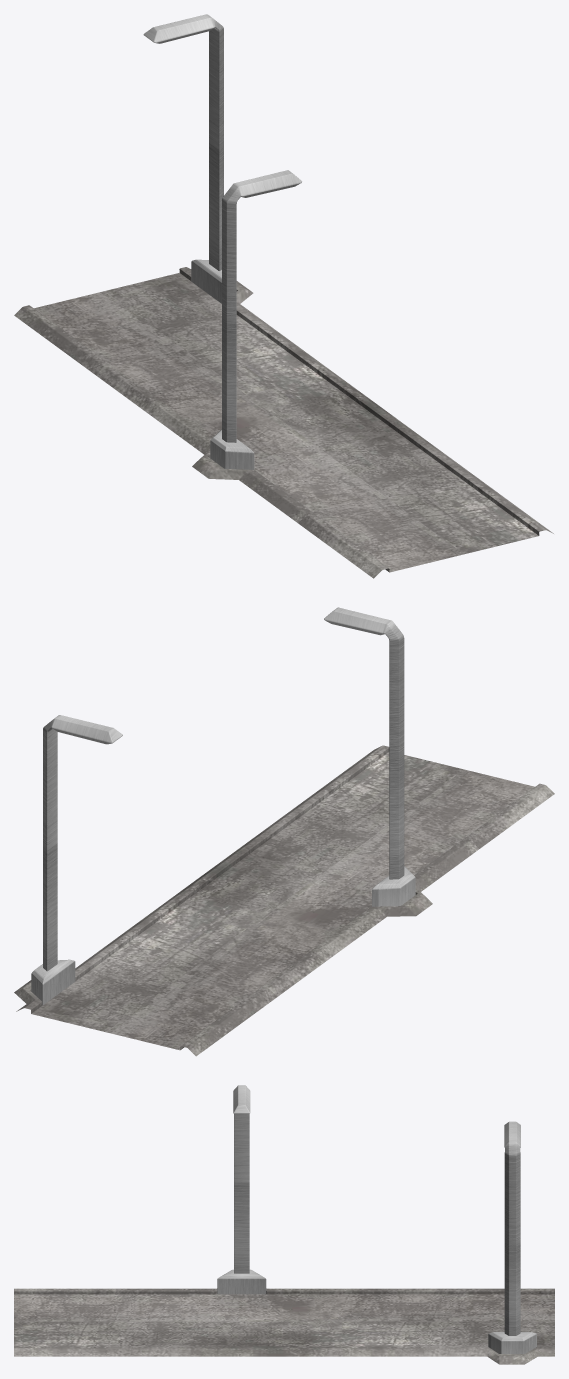
Rendered from PadFiets 1.fbx.
3 views of the same model, one above another, from view 1: azimuth 30°, elevation 25°; view 2: azimuth 150°, elevation 25°; view 3: azimuth 270°, elevation 25° (orthographic). The views are drawn at different scales.
Parts seen in each view (by area): view 1: polySurface13, polySurface14, polySurface31, polySurface37; view 2: polySurface13, polySurface14, polySurface31, polySurface37; view 3: polySurface14, polySurface13, polySurface37, polySurface31.
Boxes of the visible parts, x1,y1,x2,y2 form: polySurface13: [14, 291, 463, 578]; polySurface14: [105, 267, 553, 554]; polySurface31: [210, 170, 301, 469]; polySurface37: [143, 14, 223, 303]; polySurface13: [106, 769, 554, 1056]; polySurface14: [14, 745, 463, 1031]; polySurface31: [324, 607, 415, 906]; polySurface37: [31, 715, 122, 1005]; polySurface14: [14, 1321, 554, 1364]; polySurface13: [14, 1288, 554, 1321]; polySurface37: [488, 1121, 536, 1353]; polySurface31: [217, 1085, 266, 1294].
Bounding box in the file's own units: 5.36 × 6.38 × 14.89.
